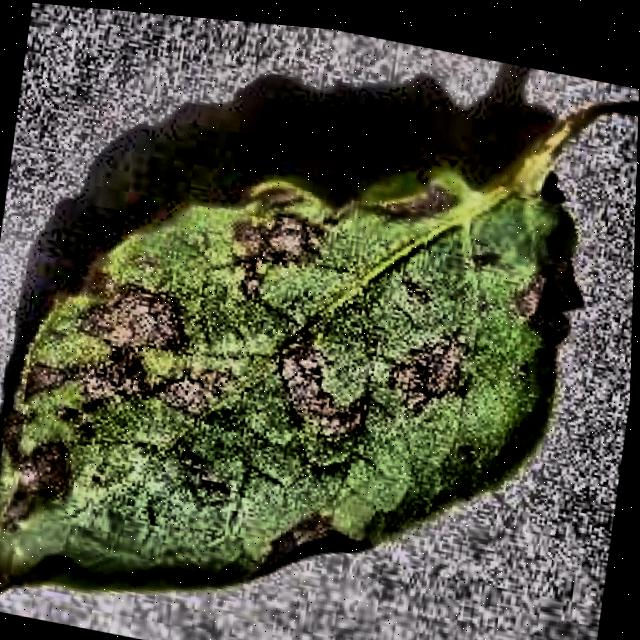Potato_leaf_early_blight: (0, 109, 638, 591)
